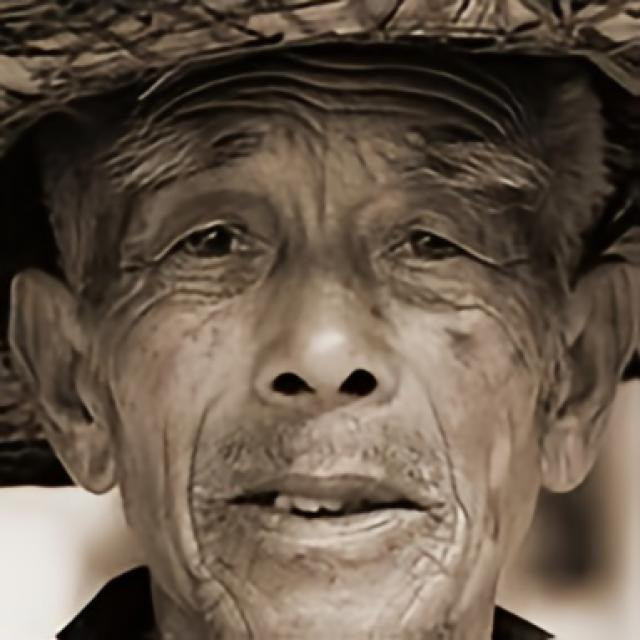sad: (113, 54, 544, 640)
